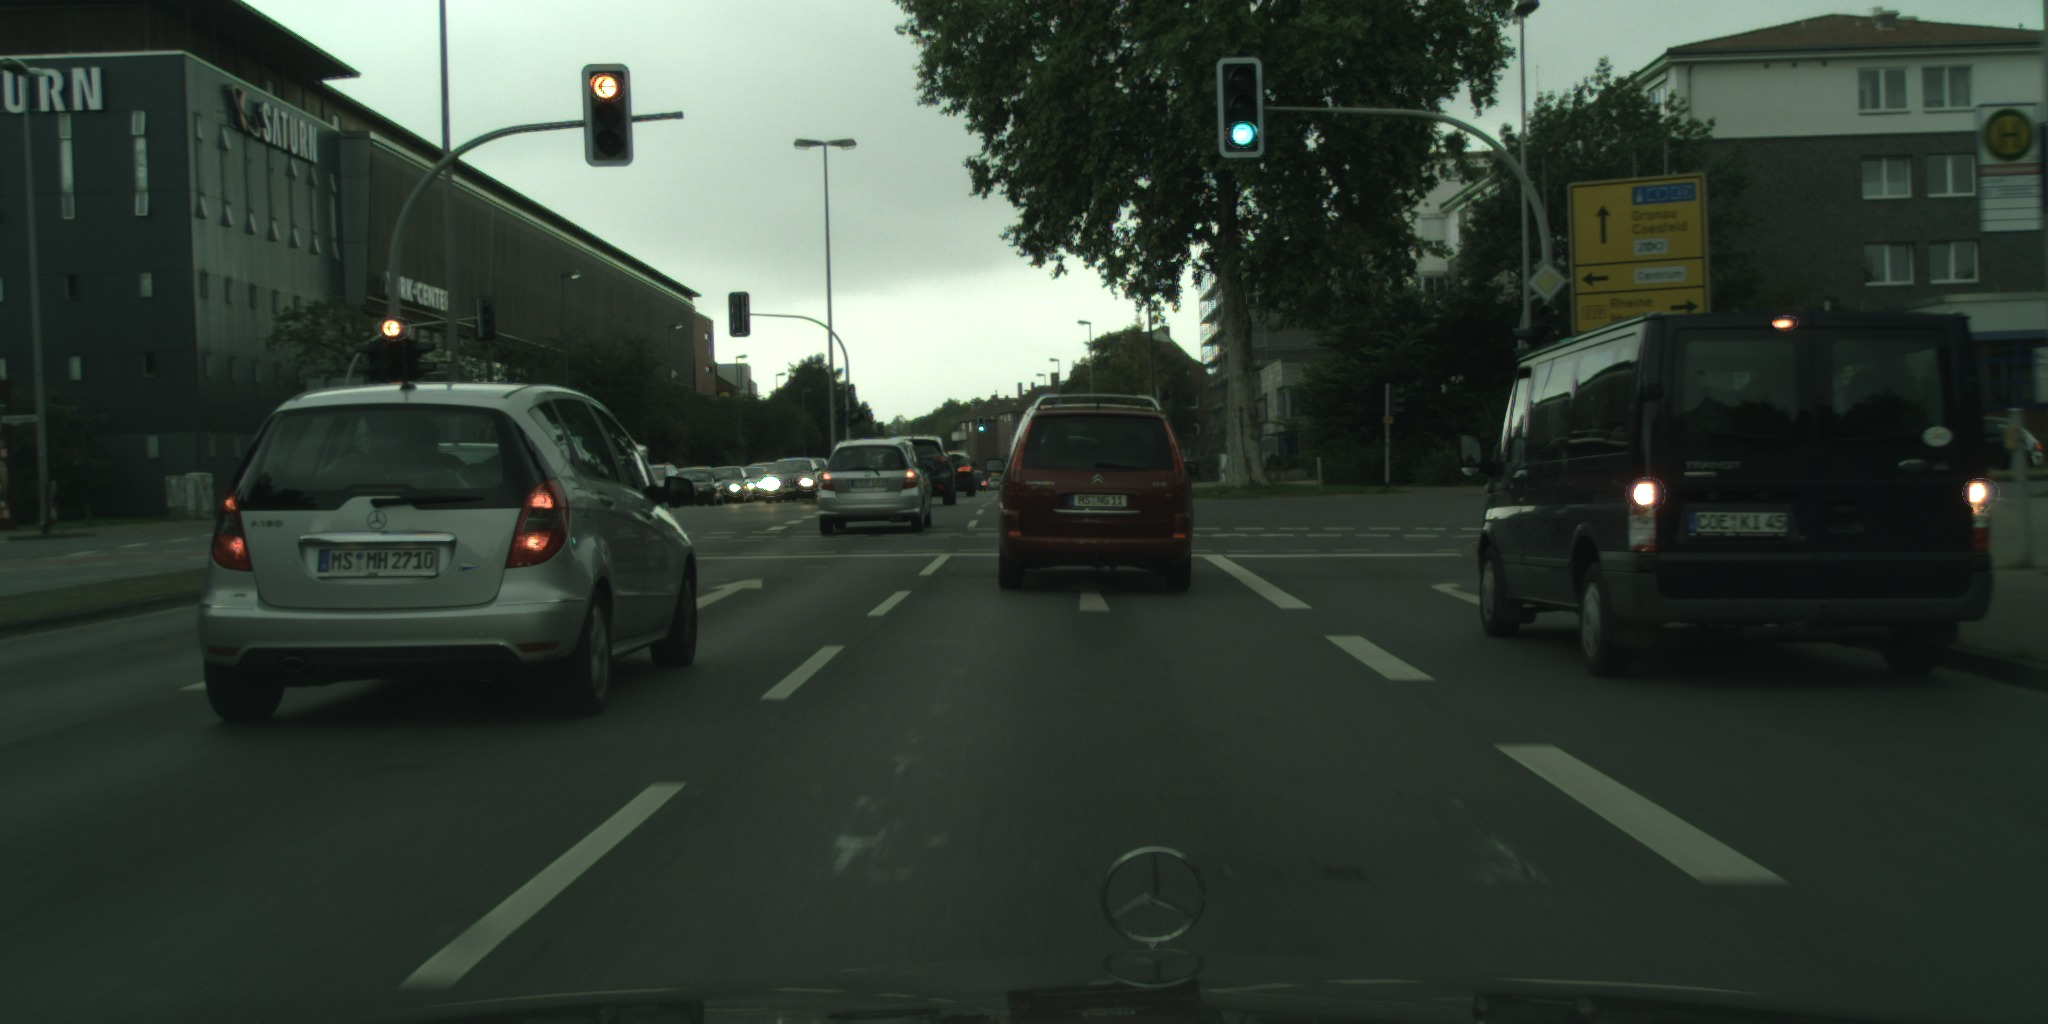car: (1458, 308, 1993, 680), (199, 381, 700, 726), (984, 393, 1200, 593), (818, 438, 935, 536), (889, 436, 956, 505), (1976, 415, 2045, 472), (763, 457, 825, 503), (639, 462, 684, 513), (671, 466, 724, 507), (940, 451, 978, 499), (708, 465, 748, 503), (733, 465, 773, 498), (797, 457, 835, 485), (747, 461, 780, 481), (969, 472, 987, 492), (984, 475, 1004, 490)
